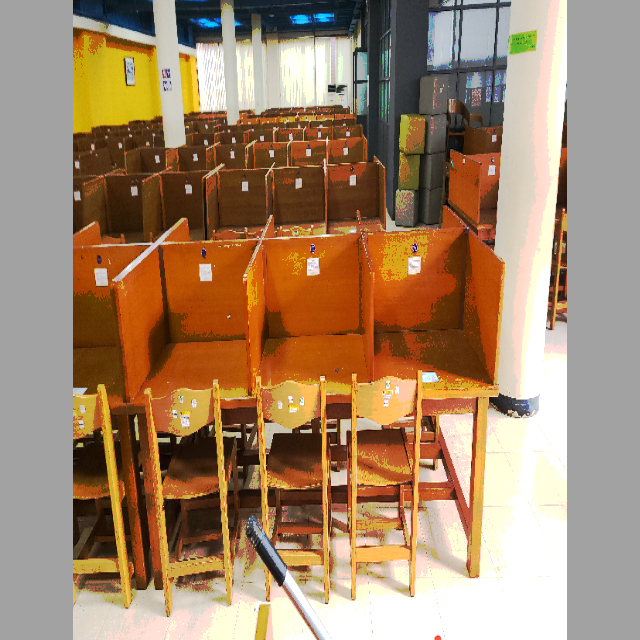empty: (253, 232, 375, 468), (127, 229, 248, 464), (377, 222, 498, 454)
